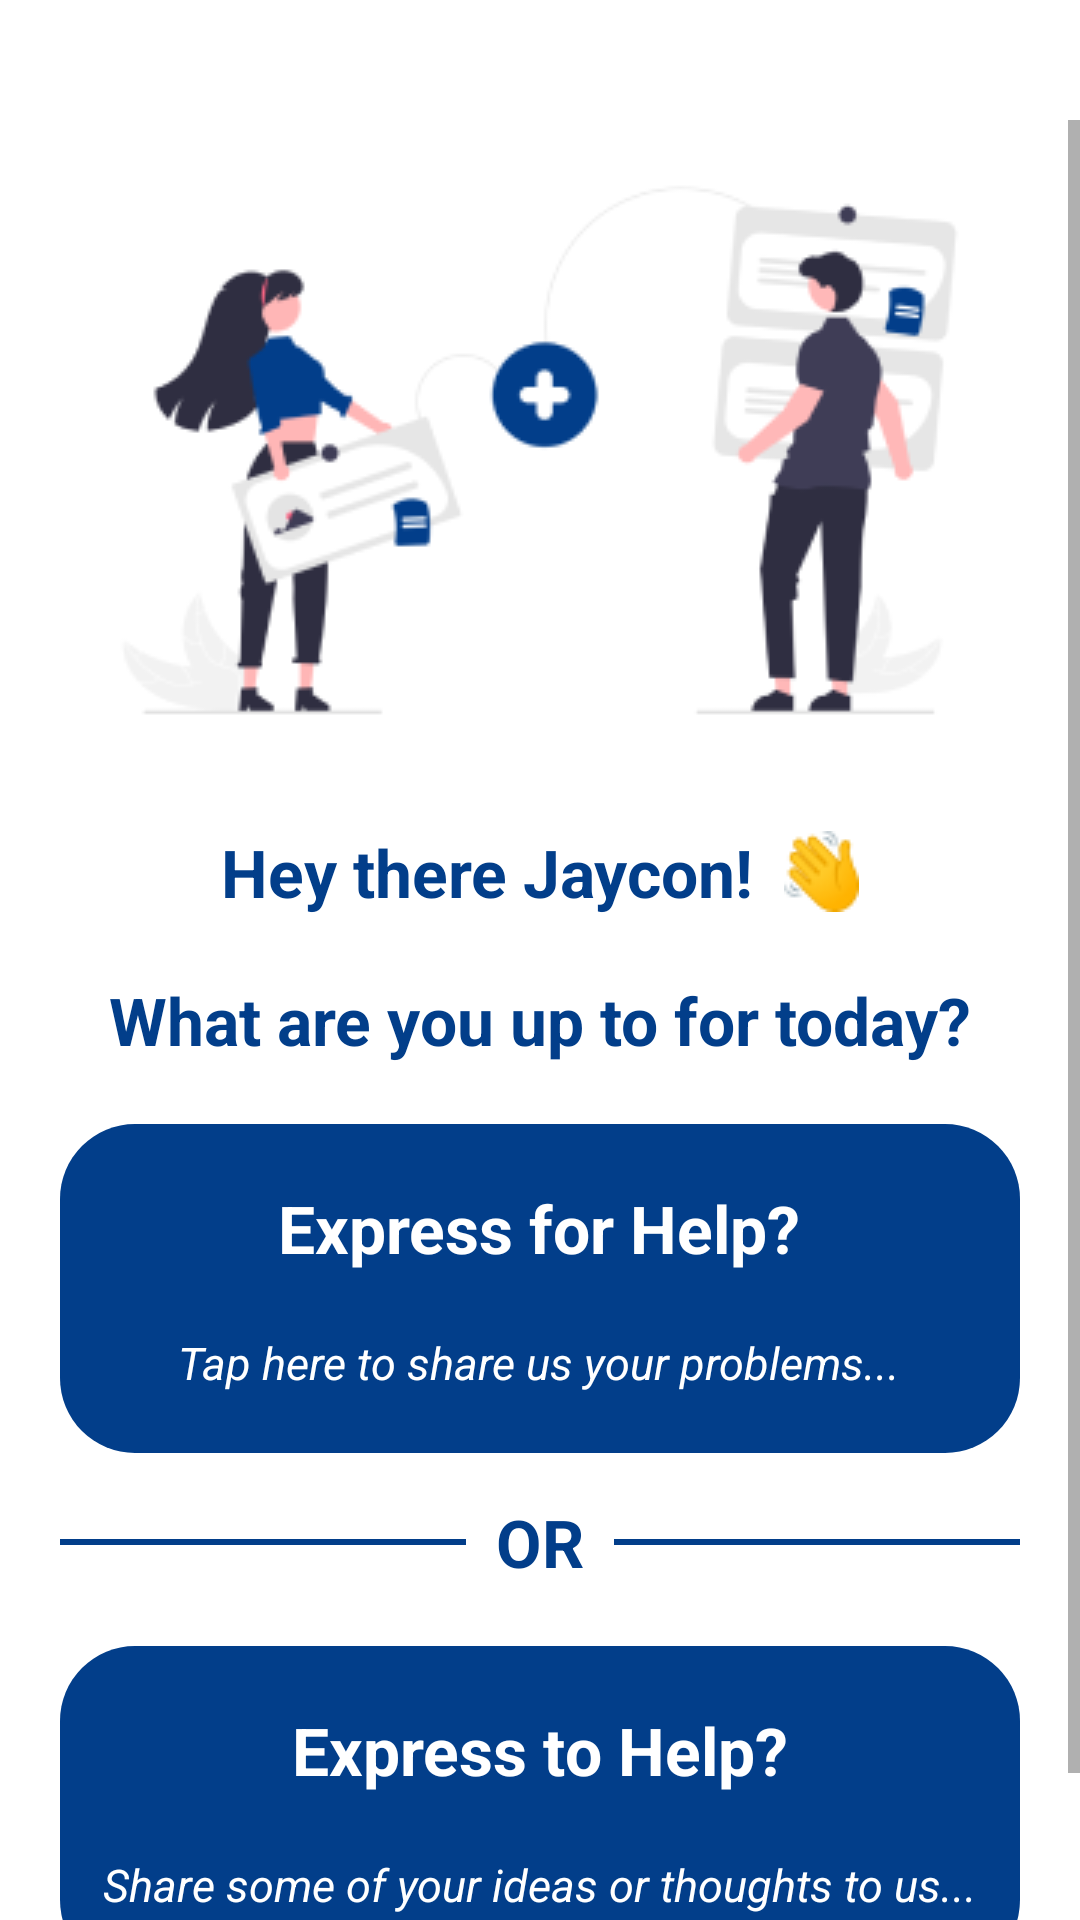

Icon bounding boxes for this 1080×1920 phone screenshot, format (x1, y1, x2, y2):
wave: (784, 831, 859, 912)
